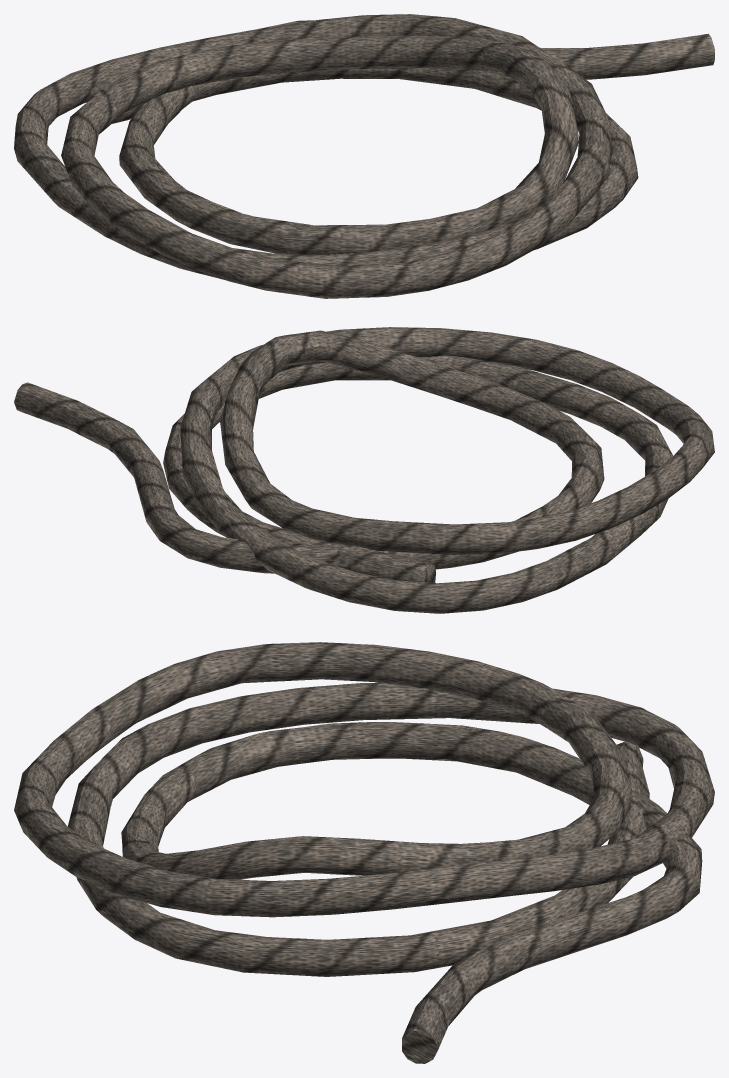
File: SM_Rope_Bundle_01.fbx
The picture shows the model from 3 angles, top to bottom: view 1: azimuth 30°, elevation 25°; view 2: azimuth 150°, elevation 25°; view 3: azimuth 270°, elevation 25°; orthographic projection. The views are drawn at different scales.
Visible parts, largest first — view 1: SM_Rope_Bundle_01_LOD0; view 2: SM_Rope_Bundle_01_LOD0; view 3: SM_Rope_Bundle_01_LOD0.
Part boxes in pixels (x1,y1,x2,y2): SM_Rope_Bundle_01_LOD0: (14, 14, 714, 298); SM_Rope_Bundle_01_LOD0: (14, 327, 714, 613); SM_Rope_Bundle_01_LOD0: (14, 642, 714, 1063).
Bounding box in the file's own units: 95.27 × 77.88 × 12.96.
